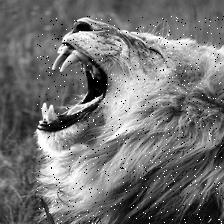Lion: (37, 15, 224, 224)
